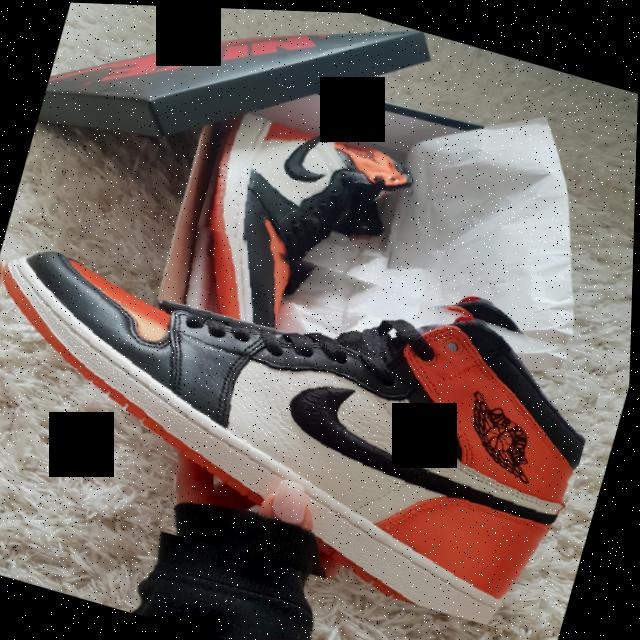shoe: (0, 165, 619, 635), (178, 98, 426, 349)
